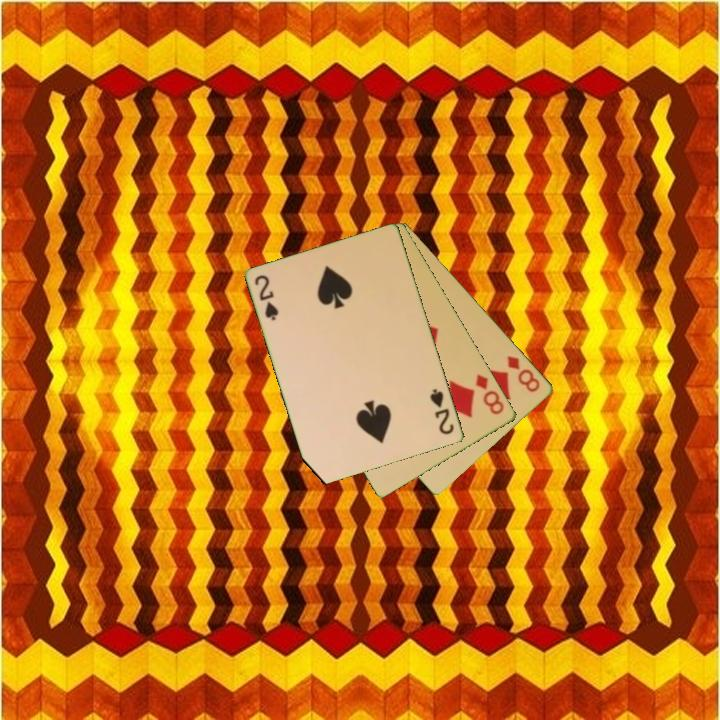2s: (251, 271, 282, 324), (427, 385, 457, 438)
8d: (472, 370, 507, 418), (504, 352, 543, 395)
